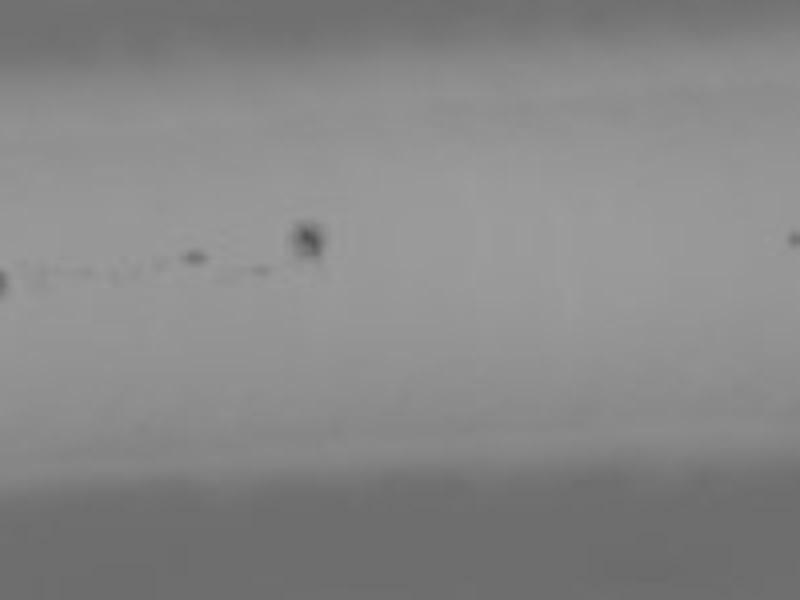defect: (291, 223, 320, 257), (181, 248, 208, 262), (245, 262, 268, 275), (789, 227, 800, 245), (2, 271, 7, 299)
